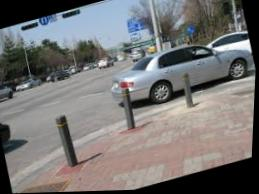Animal: (54, 113, 81, 179), (116, 86, 141, 138), (180, 71, 203, 111)
